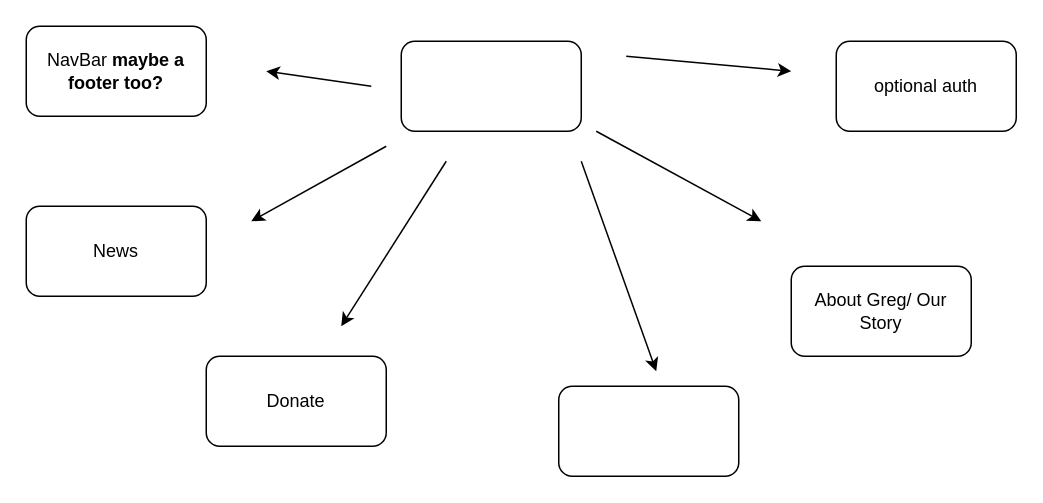
Some shapes in this 1043 by 503 pixel diagram are drawn without their labels. The centre of each missing label's shape, as x and y in pixels:
"App.js" goes at point 490,85.
"Mission" goes at point 648,430.
